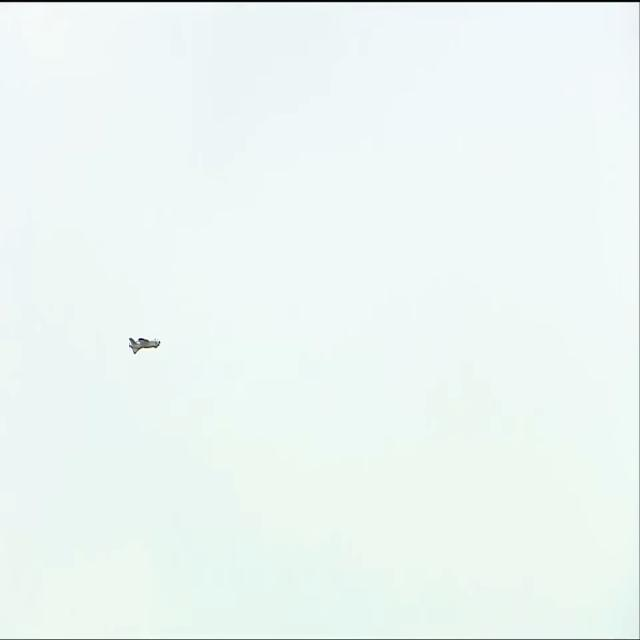iha: (128, 336, 162, 356)
